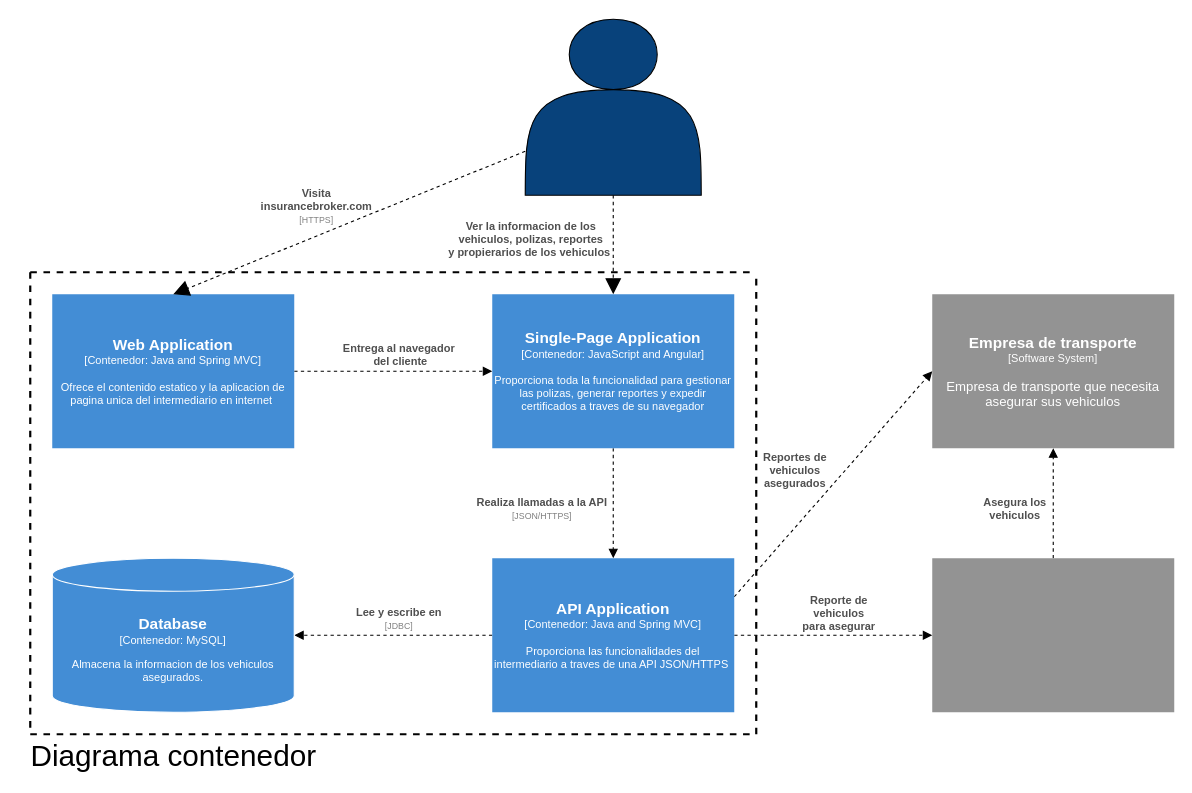
This 1192x793 diagram has some shape labels left out. Each missing label, with the centre of its shape:
"Aseguradora [Software System] Vende las polizas de seguro vehicular" belongs at point 1053,635.
"Usuario [Person] Persona intermediaria de seguros" belongs at point 612,106.
